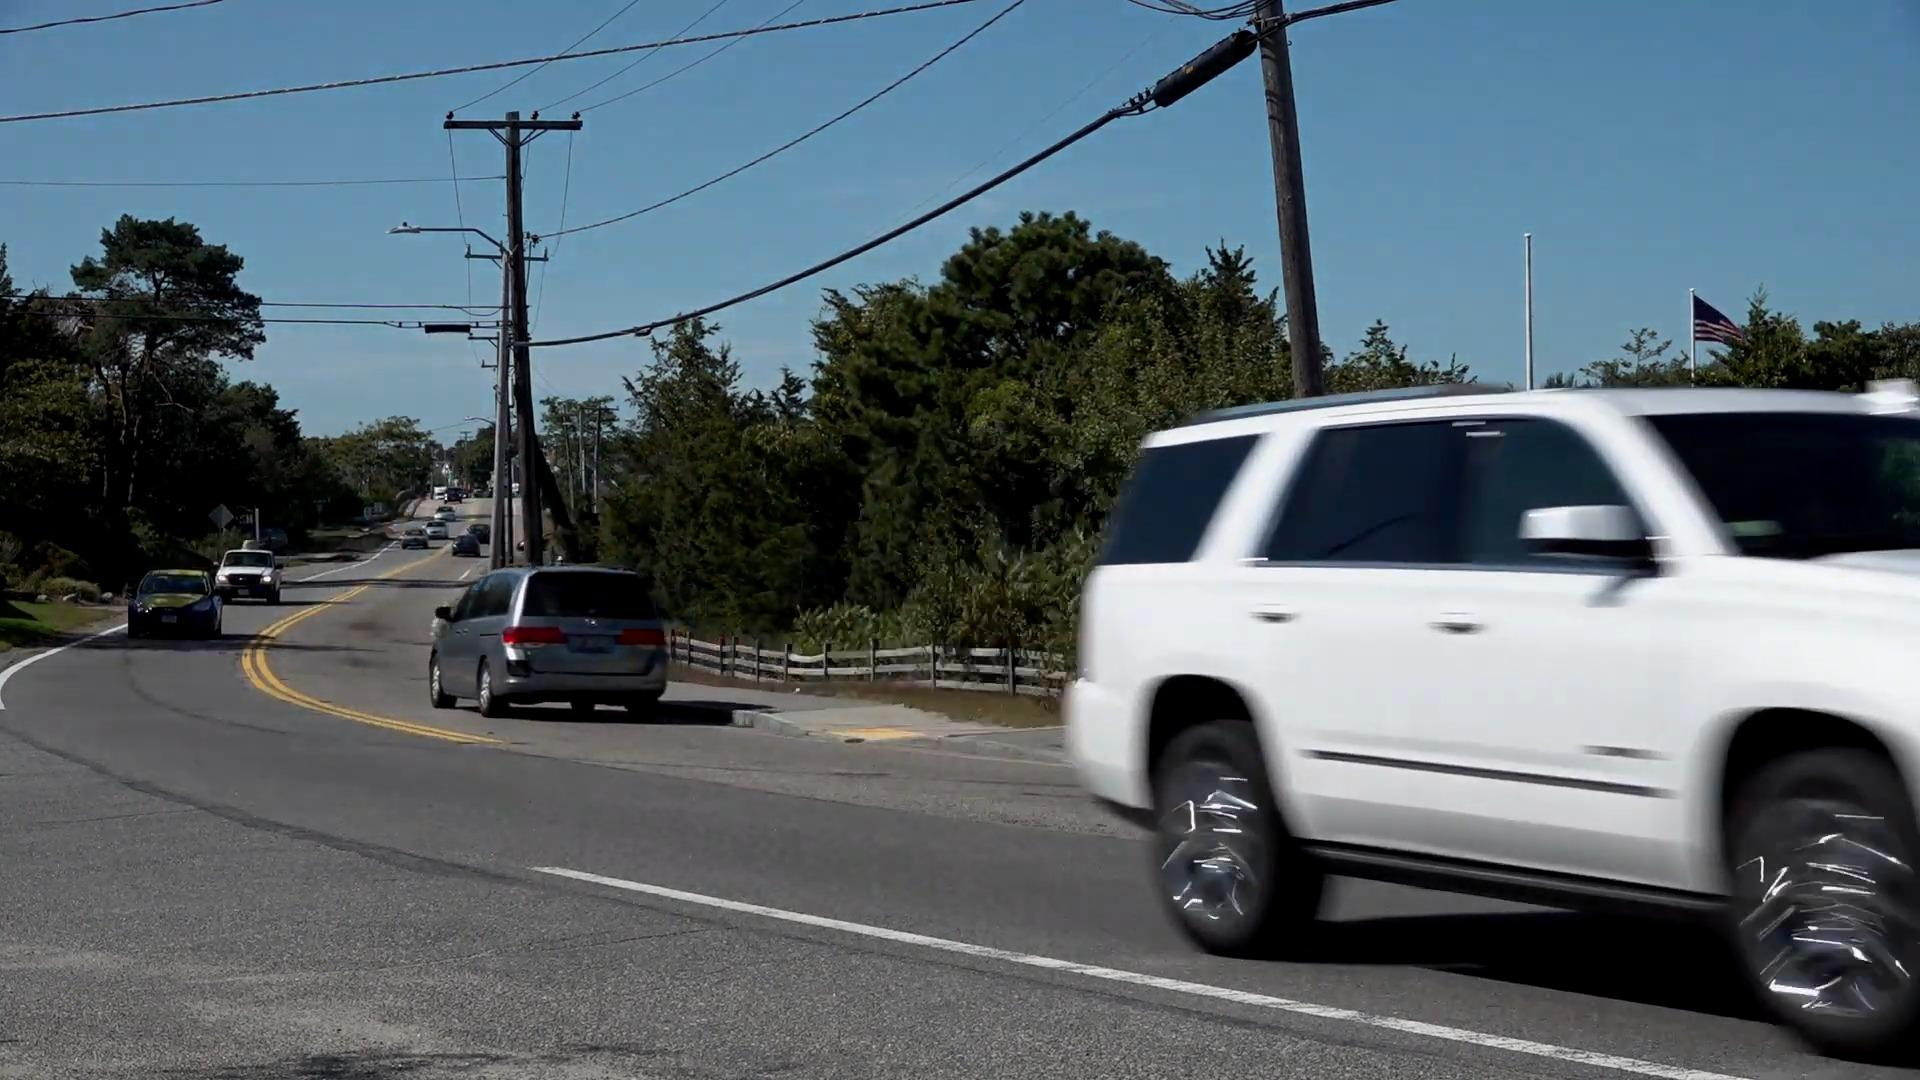sedans: (132, 570, 220, 638)
suv: (1064, 380, 1920, 1050), (427, 566, 671, 713)
